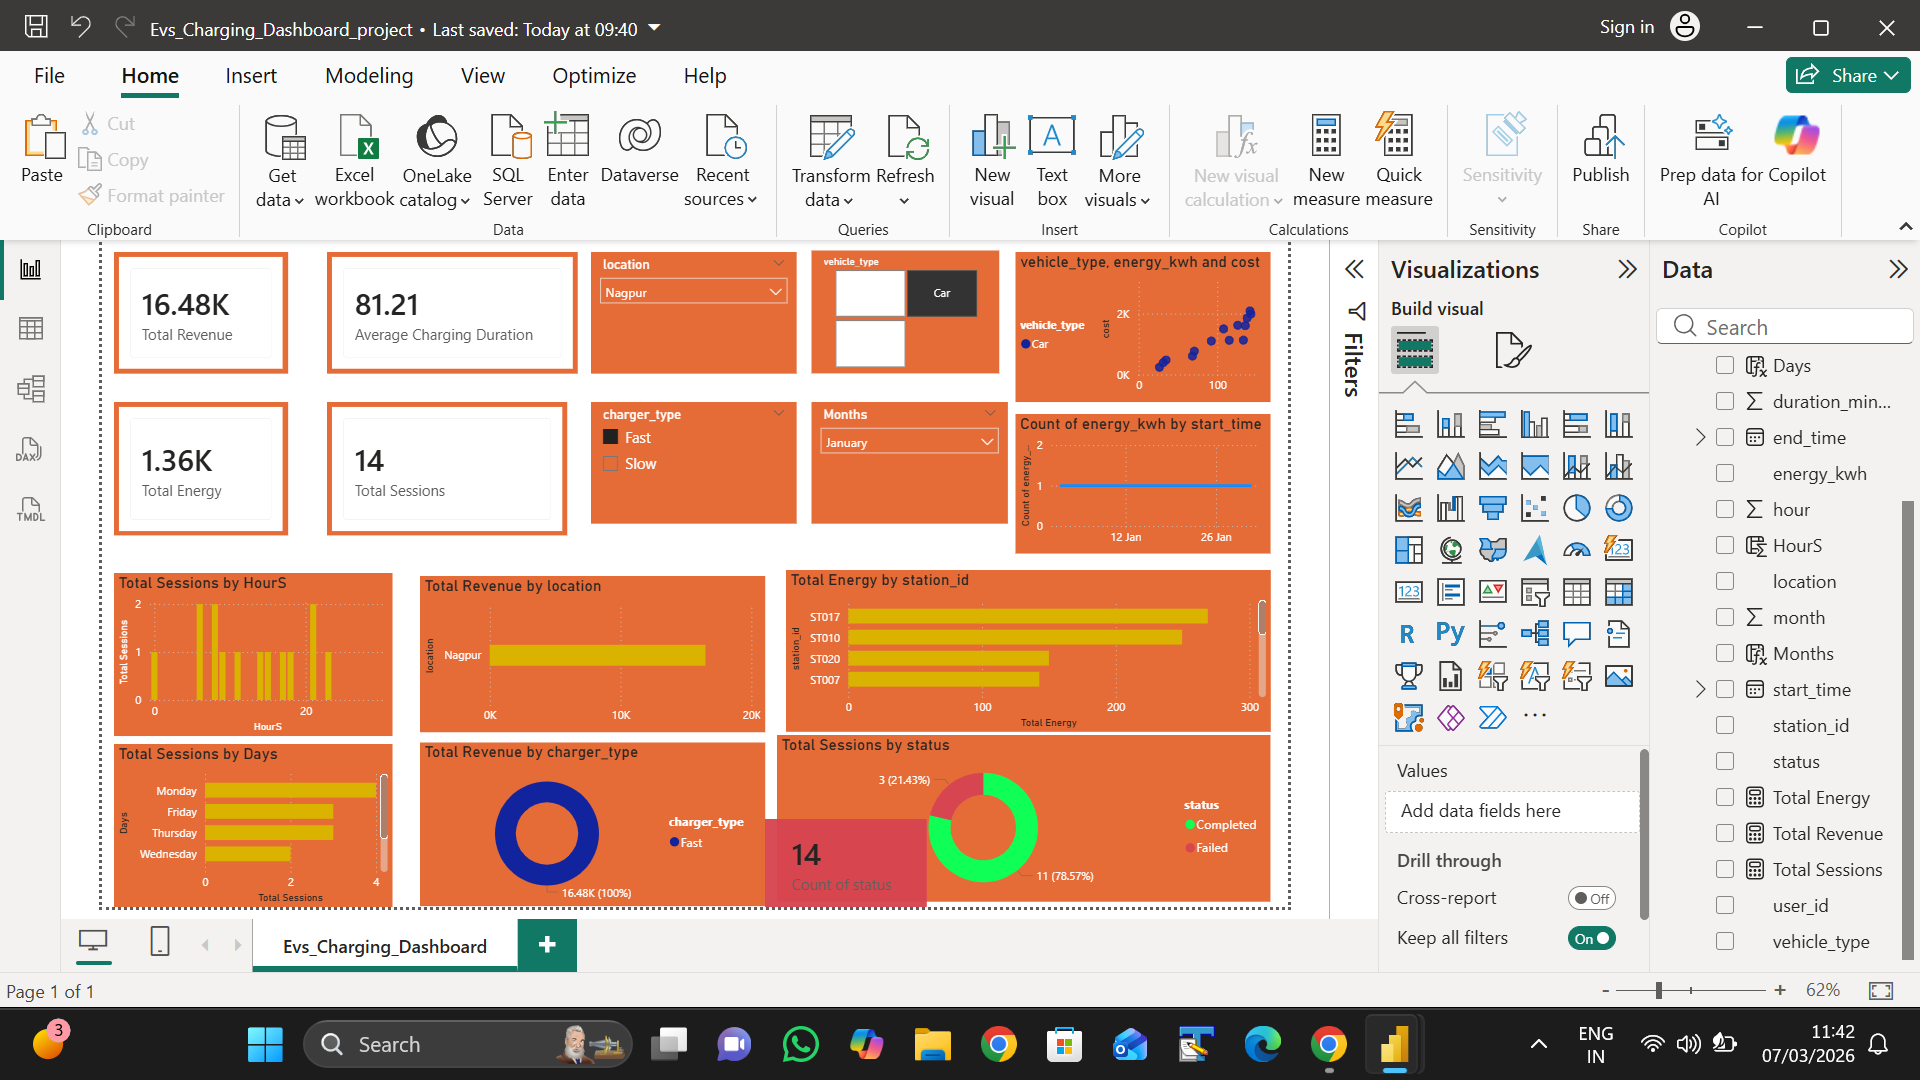

This screenshot's page, from the dashboard's own definition file:
{"tool":"powerbi","page":{"name":"Evs_Charging_Dashboard","canvas":[1280,720],"ordinal":0},"visuals":[{"type":"cardVisual","fields":{"Data":["ev_cleaned_data.Total Revenue"]},"box":[13,13,187.8,131.2],"z":0},{"type":"cardVisual","fields":{"Data":["ev_cleaned_data.Total Energy"]},"box":[13,174.9,187.8,144.1],"z":1000},{"type":"cardVisual","fields":{"Data":["ev_cleaned_data.Average Charging Duration"]},"box":[242.9,13,270.4,131.2],"z":2000},{"type":"cardVisual","fields":{"Data":["ev_cleaned_data.Total Sessions"]},"box":[242.9,174.9,259.1,144.1],"z":3000},{"type":"clusteredColumnChart","fields":{"Category":["ev_cleaned_data.HourS"],"Y":["ev_cleaned_data.Total Sessions"]},"box":[13.2,359.1,300.5,175.7],"z":4000},{"type":"clusteredBarChart","fields":{"Y":["ev_cleaned_data.Total Sessions"],"Category":["ev_cleaned_data.Days"]},"box":[13.2,544.3,300.5,175.7],"z":5000},{"type":"barChart","fields":{"Category":["ev_cleaned_data.location"],"Y":["ev_cleaned_data.Total Revenue"]},"box":[343.3,362.7,372.4,168.4],"z":6000},{"type":"donutChart","fields":{"Category":["ev_cleaned_data.charger_type"],"Y":["ev_cleaned_data.Total Revenue"]},"box":[343.3,542.4,372.4,176.5],"z":7000},{"type":"clusteredBarChart","fields":{"Category":["ev_cleaned_data.station_id"],"Y":["ev_cleaned_data.Total Energy"]},"box":[738.4,356.2,523,174.9],"z":8000},{"type":"donutChart","fields":{"Y":["ev_cleaned_data.Total Sessions"],"Category":["ev_cleaned_data.status"]},"box":[728.7,534.3,532.7,179.7],"z":9000},{"type":"slicer","fields":{"Values":["ev_cleaned_data.location"]},"box":[527.9,13,221.8,131.2],"z":10000},{"type":"slicer","fields":{"Values":["ev_cleaned_data.charger_type"]},"box":[527.9,174.9,221.8,131.2],"z":11000},{"type":"slicer","fields":{"Values":["ev_cleaned_data.vehicle_type"]},"box":[765.9,11.3,202.4,132.8],"z":12000},{"type":"slicer","fields":{"Values":["ev_cleaned_data.Months"]},"box":[765.9,174.9,212.1,131.2],"z":13000},{"type":"scatterChart","fields":{"X":["ev_cleaned_data.energy_kwh"],"Y":["ev_cleaned_data.cost"],"Series":["ev_cleaned_data.vehicle_type"]},"box":[986.1,13,275.3,161.9],"z":14000},{"type":"lineChart","fields":{"Y":["CountNonNull(ev_cleaned_data.energy_kwh)"],"Category":["ev_cleaned_data.start_time"]},"box":[986.1,187.8,275.3,150.6],"z":15000},{"type":"cardVisual","fields":{"Data":["CountNonNull(ev_cleaned_data.status)"]},"box":[715.7,625,174.9,95.5],"z":16000}]}

Visuals, with their boxes on the page's 1280x720 design canvas (x1, y1, x2, y2). These are canvas units, not pixel positions in the 1920x1080 screenshot, which may show the page scaled, cropped or inside an application window:
cardVisual - ev_cleaned_data.Total Revenue: left=13, top=13, right=201, bottom=144
cardVisual - ev_cleaned_data.Total Energy: left=13, top=175, right=201, bottom=319
cardVisual - ev_cleaned_data.Average Charging Duration: left=243, top=13, right=513, bottom=144
cardVisual - ev_cleaned_data.Total Sessions: left=243, top=175, right=502, bottom=319
clusteredColumnChart - ev_cleaned_data.HourS x ev_cleaned_data.Total Sessions: left=13, top=359, right=314, bottom=535
clusteredBarChart - ev_cleaned_data.Total Sessions x ev_cleaned_data.Days: left=13, top=544, right=314, bottom=720
barChart - ev_cleaned_data.location x ev_cleaned_data.Total Revenue: left=343, top=363, right=716, bottom=531
donutChart - ev_cleaned_data.charger_type x ev_cleaned_data.Total Revenue: left=343, top=542, right=716, bottom=719
clusteredBarChart - ev_cleaned_data.station_id x ev_cleaned_data.Total Energy: left=738, top=356, right=1261, bottom=531
donutChart - ev_cleaned_data.Total Sessions x ev_cleaned_data.status: left=729, top=534, right=1261, bottom=714
slicer - ev_cleaned_data.location: left=528, top=13, right=750, bottom=144
slicer - ev_cleaned_data.charger_type: left=528, top=175, right=750, bottom=306
slicer - ev_cleaned_data.vehicle_type: left=766, top=11, right=968, bottom=144
slicer - ev_cleaned_data.Months: left=766, top=175, right=978, bottom=306
scatterChart - ev_cleaned_data.energy_kwh x ev_cleaned_data.cost: left=986, top=13, right=1261, bottom=175
lineChart - CountNonNull(ev_cleaned_data.energy_kwh) x ev_cleaned_data.start_time: left=986, top=188, right=1261, bottom=338
cardVisual - CountNonNull(ev_cleaned_data.status): left=716, top=625, right=891, bottom=720
